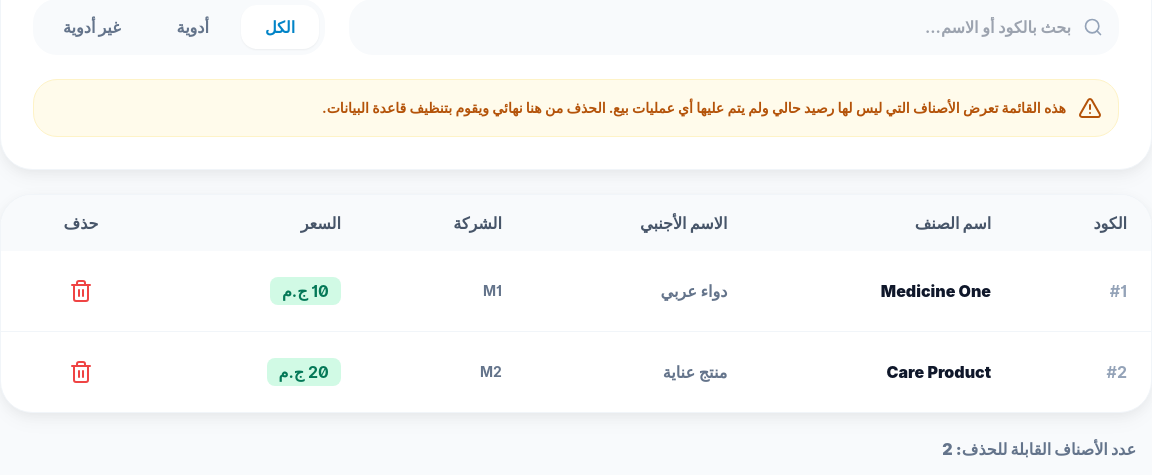
Test: unused-item cleanup UI interactions › removes only the successfully deleted item from the local list
This screenshot has width=1152, height=475.
Click the button named "حذف Care Product".
click(81, 372)  # box top-left (57, 348), bottom-right (105, 396)
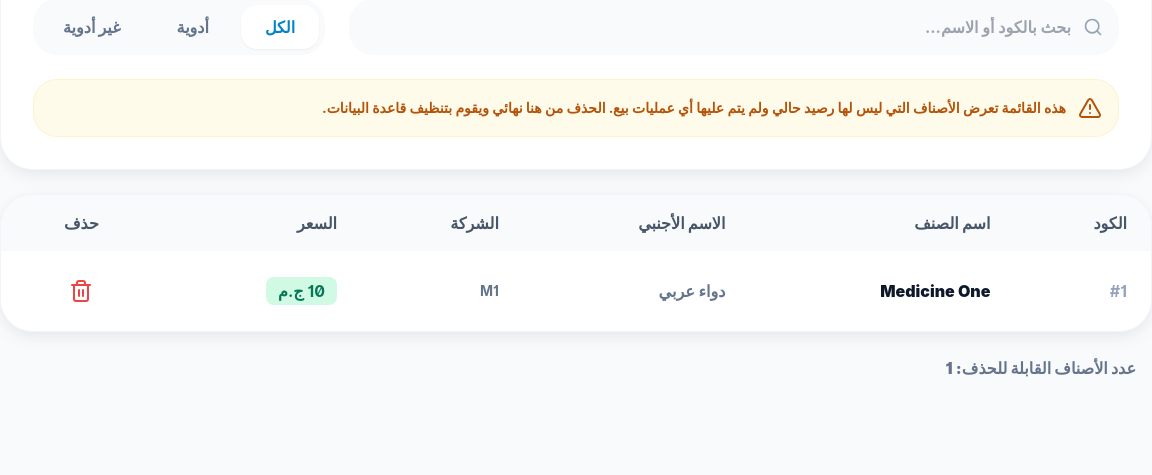
Check: the text "Medicine One" is shown, box top-left (749, 251), bottom-right (1014, 331)
Check: the text "Care Product" is gone
Check: the text "عدد الأصناف القابلة للحذف: 1" is shown, box top-left (946, 356), bottom-right (1136, 380)
